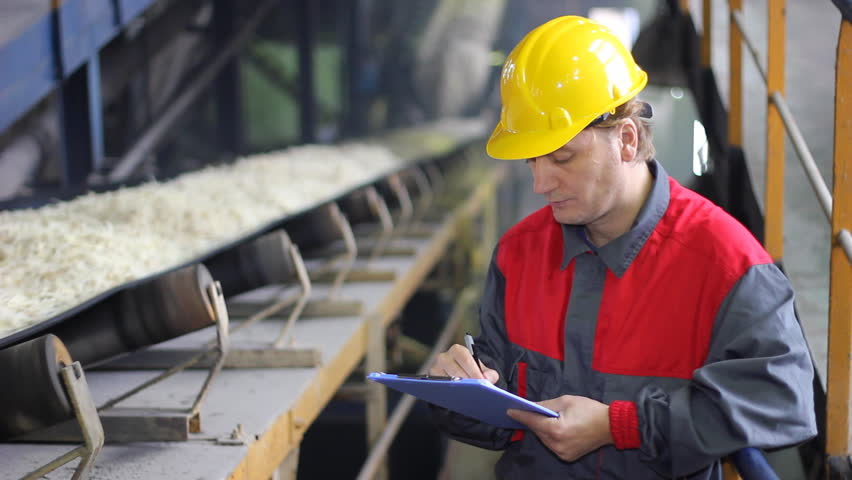Person_wearing_helmet: (470, 12, 657, 171)
